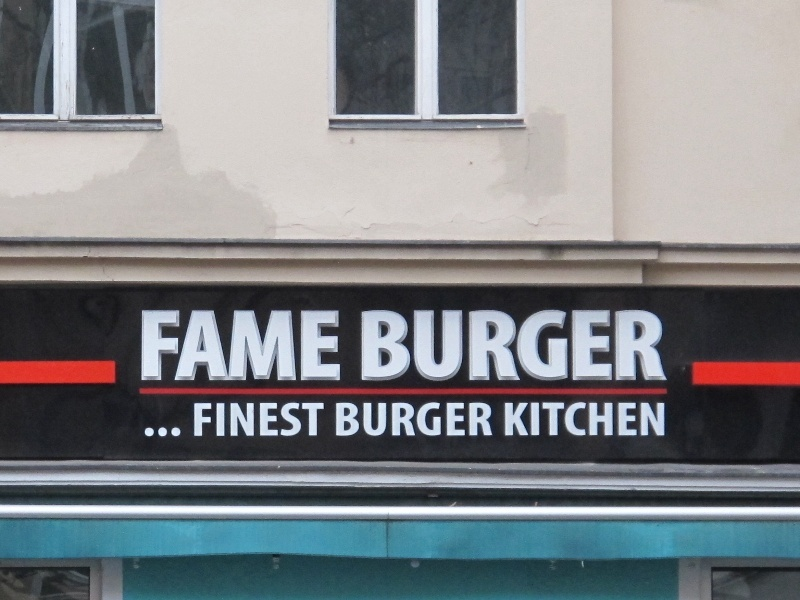text: (145, 310, 160, 383), (161, 310, 176, 383), (177, 310, 192, 383), (193, 310, 208, 383), (209, 310, 224, 383), (225, 310, 240, 383), (241, 310, 256, 383), (257, 310, 272, 383), (273, 310, 288, 383), (289, 310, 304, 383), (305, 310, 320, 383), (321, 310, 336, 383), (369, 310, 384, 382), (385, 310, 400, 382), (401, 310, 416, 382), (417, 310, 432, 382), (433, 310, 448, 382), (449, 310, 464, 382), (465, 310, 480, 382), (481, 310, 496, 382), (497, 310, 512, 382), (513, 310, 528, 382), (529, 310, 544, 382), (545, 310, 560, 382), (561, 310, 576, 382), (577, 310, 592, 382), (593, 310, 608, 382), (609, 310, 624, 382), (625, 310, 640, 382), (641, 310, 656, 382), (657, 310, 670, 382), (209, 403, 224, 437), (225, 403, 240, 437), (241, 403, 256, 437), (257, 403, 272, 437), (273, 403, 288, 437), (289, 403, 304, 437), (305, 403, 320, 437), (513, 402, 528, 436), (529, 402, 544, 436), (545, 402, 560, 436), (561, 402, 576, 436), (577, 402, 592, 436), (593, 402, 608, 436), (609, 402, 624, 436), (625, 402, 640, 436), (641, 402, 656, 436), (361, 310, 368, 382), (337, 403, 352, 436), (353, 403, 368, 436), (369, 403, 384, 436), (385, 403, 400, 436), (401, 403, 416, 436), (417, 403, 432, 436), (433, 403, 448, 436), (449, 403, 464, 436), (465, 403, 480, 436), (194, 403, 208, 437), (481, 403, 493, 436), (657, 402, 665, 436), (505, 402, 512, 436), (337, 310, 340, 383), (145, 428, 160, 438), (161, 428, 176, 438), (142, 310, 144, 383), (321, 403, 324, 437), (177, 428, 181, 438)
